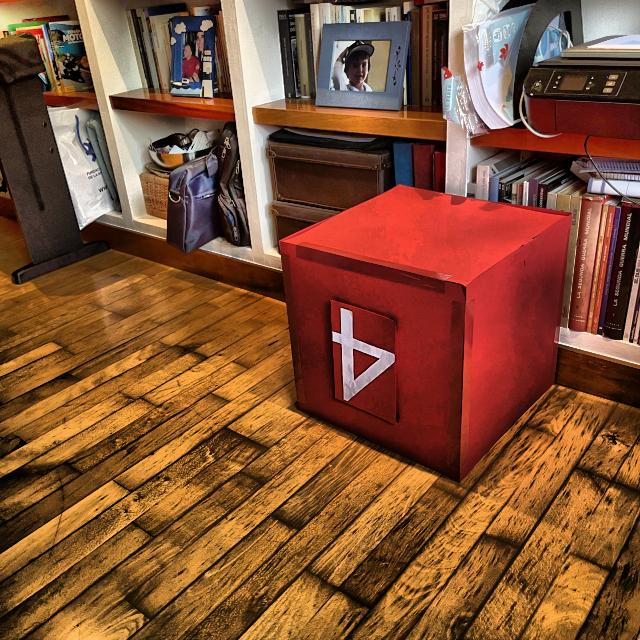four: (329, 304, 398, 405)
red box: (282, 185, 565, 483)
